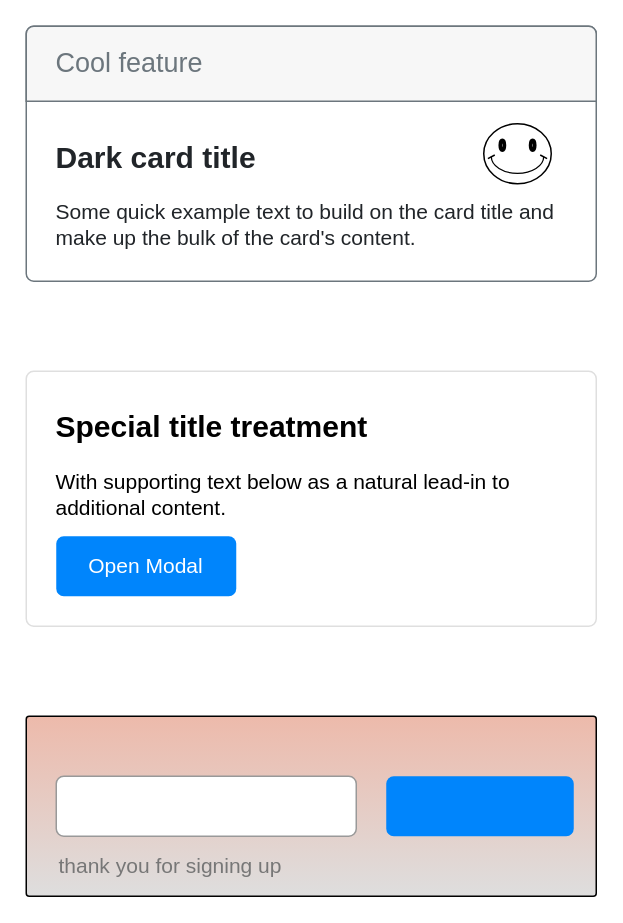
Some shapes in this 623 by 923 pixel diagram are drawn without their labels. The shapes that lost their labels are listed below. From the top down, each one's centre as x and y in pixels, then its label:
point 205,805: Password
point 479,806: Confirm identity
